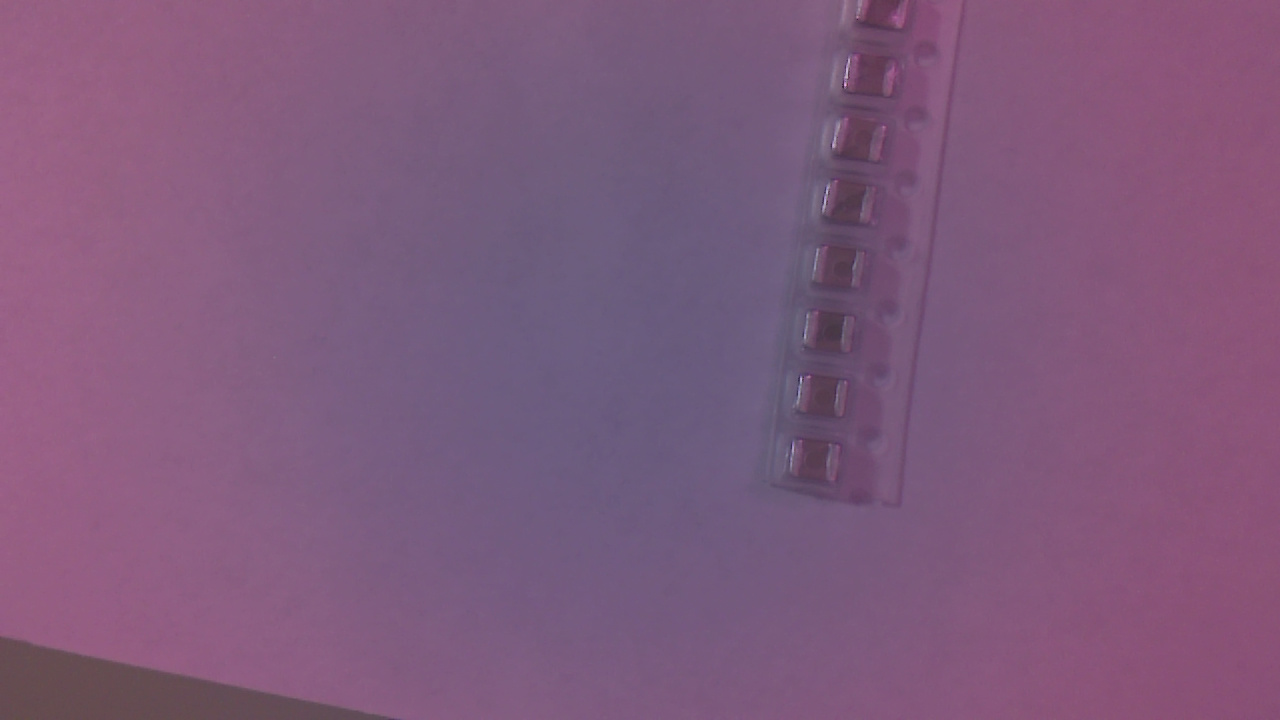Condensator: (817, 249, 873, 298), (791, 444, 847, 491), (826, 185, 881, 232), (838, 121, 894, 167), (849, 56, 903, 103), (807, 313, 861, 359), (804, 377, 856, 423), (859, 6, 918, 34)
